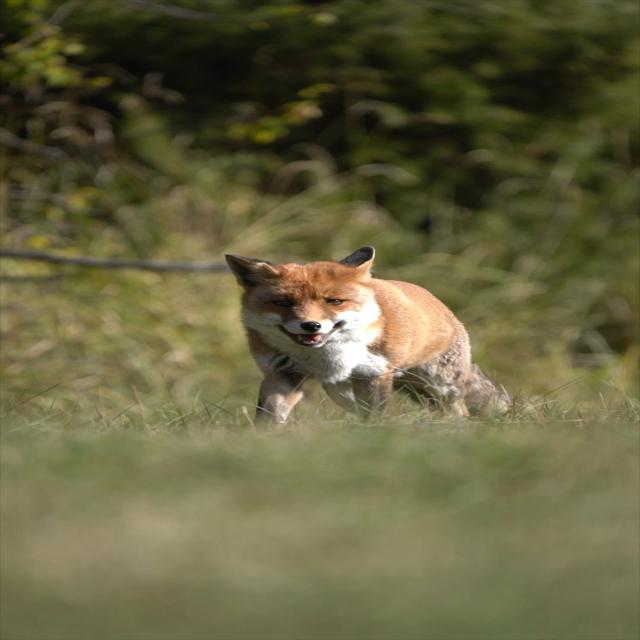fox: (200, 252, 570, 438)
